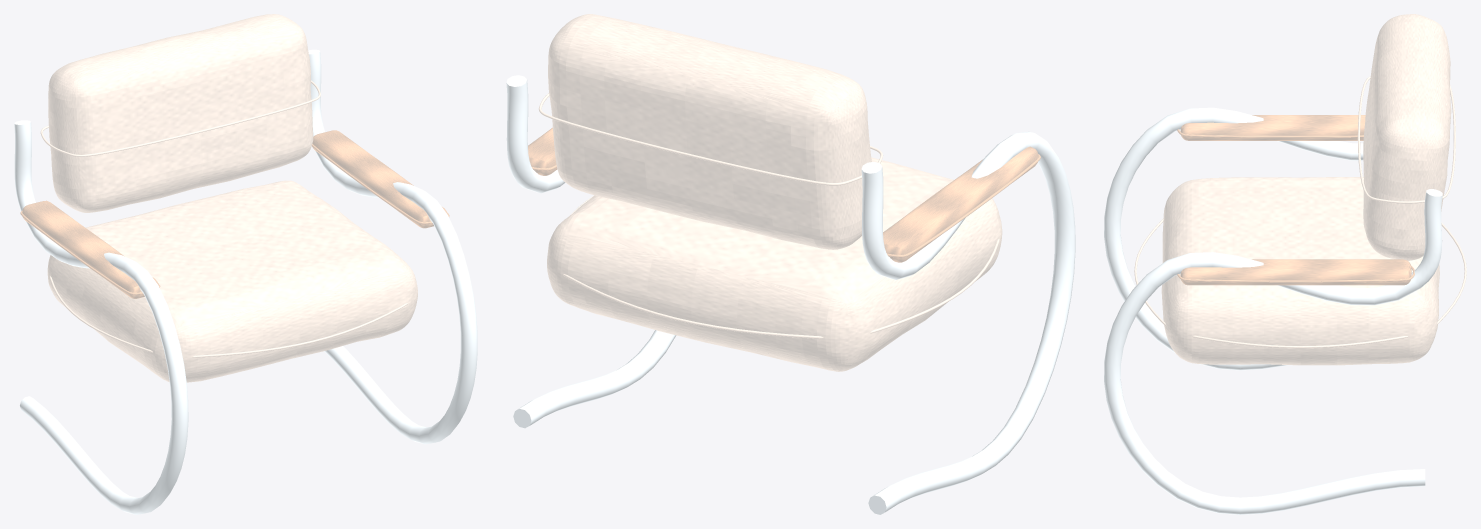
File: ref07_12.glb
3 renders of one model, left to right at view 1: azimuth 30°, elevation 25°; view 2: azimuth 150°, elevation 25°; view 3: azimuth 270°, elevation 25°, orthographic. The views are drawn at different scales.
Parts seen in each view (by area): view 1: ref07_12; view 2: ref07_12; view 3: ref07_12.
Boxes of the visible parts, <box> form: ref07_12: <box>14,14,477,514</box>; ref07_12: <box>506,14,1075,514</box>; ref07_12: <box>1104,14,1466,514</box>.
Size of the model in its own units: 0.8366 by 0.902 by 0.7853.
Materials: 3 (2 with a texture image).
